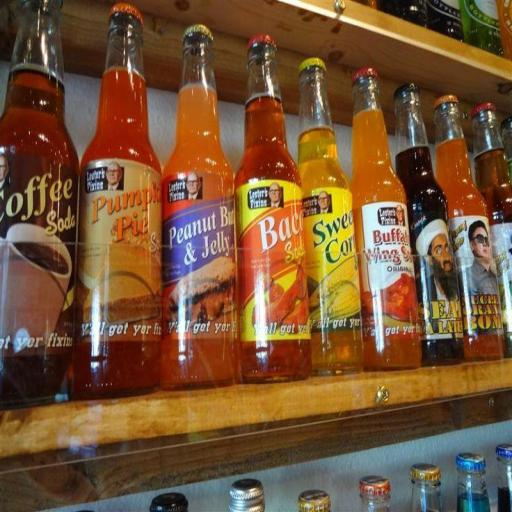glass bottle: (0, 0, 80, 411), (80, 3, 162, 394), (163, 25, 238, 391), (234, 34, 312, 382), (295, 58, 365, 374), (353, 68, 423, 368), (391, 82, 465, 365), (432, 95, 504, 360)
